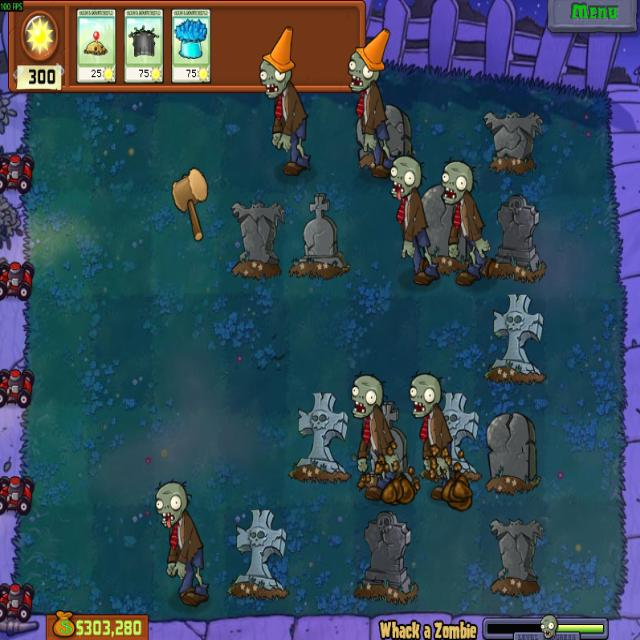conehead: (258, 27, 295, 103), (346, 29, 389, 94)
grave: (286, 391, 351, 488), (353, 509, 417, 602), (227, 506, 290, 598), (487, 293, 544, 384), (419, 186, 472, 274), (487, 517, 545, 596), (490, 196, 545, 279), (290, 194, 345, 276), (483, 412, 538, 494), (431, 394, 482, 478), (356, 105, 414, 176), (231, 201, 285, 276), (480, 110, 542, 172), (376, 401, 405, 481)
gravebuster: (124, 8, 163, 81)
zombie: (384, 152, 426, 204), (152, 478, 189, 531), (348, 374, 384, 426), (408, 372, 445, 422), (437, 159, 476, 206)
